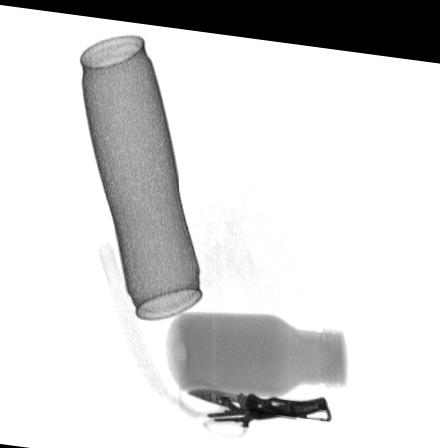Knife: (186, 382, 332, 413)
Scissors: (174, 373, 327, 435)
